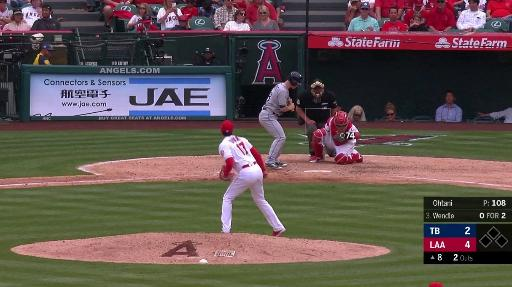pitcher: (217, 120, 287, 238)
